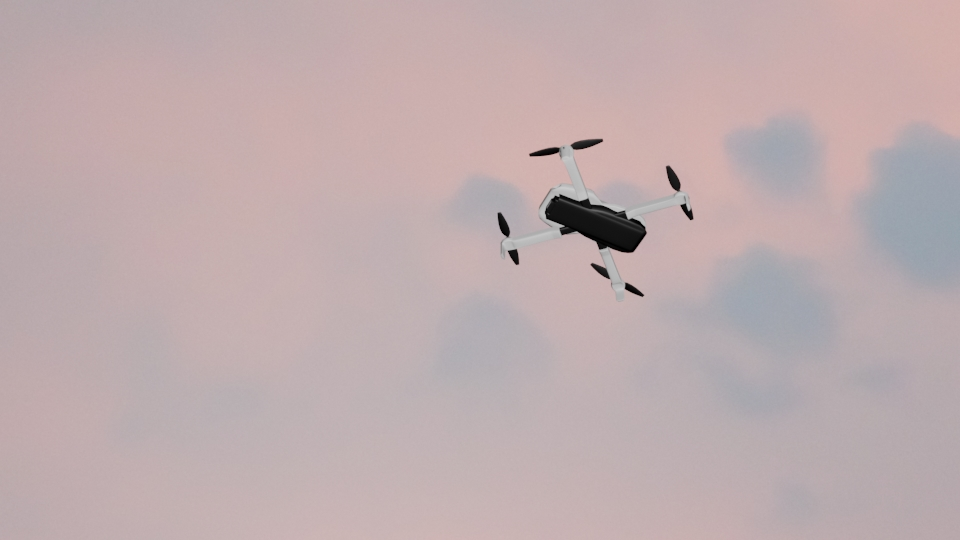drone: (495, 135, 691, 302)
